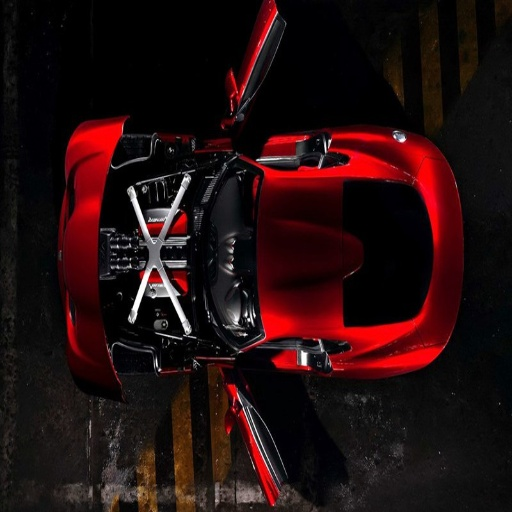back_bumper: (70, 293, 210, 388)
back_left_light: (60, 152, 99, 274)
front_bumper: (371, 294, 453, 369)
trunk: (261, 186, 362, 282)
